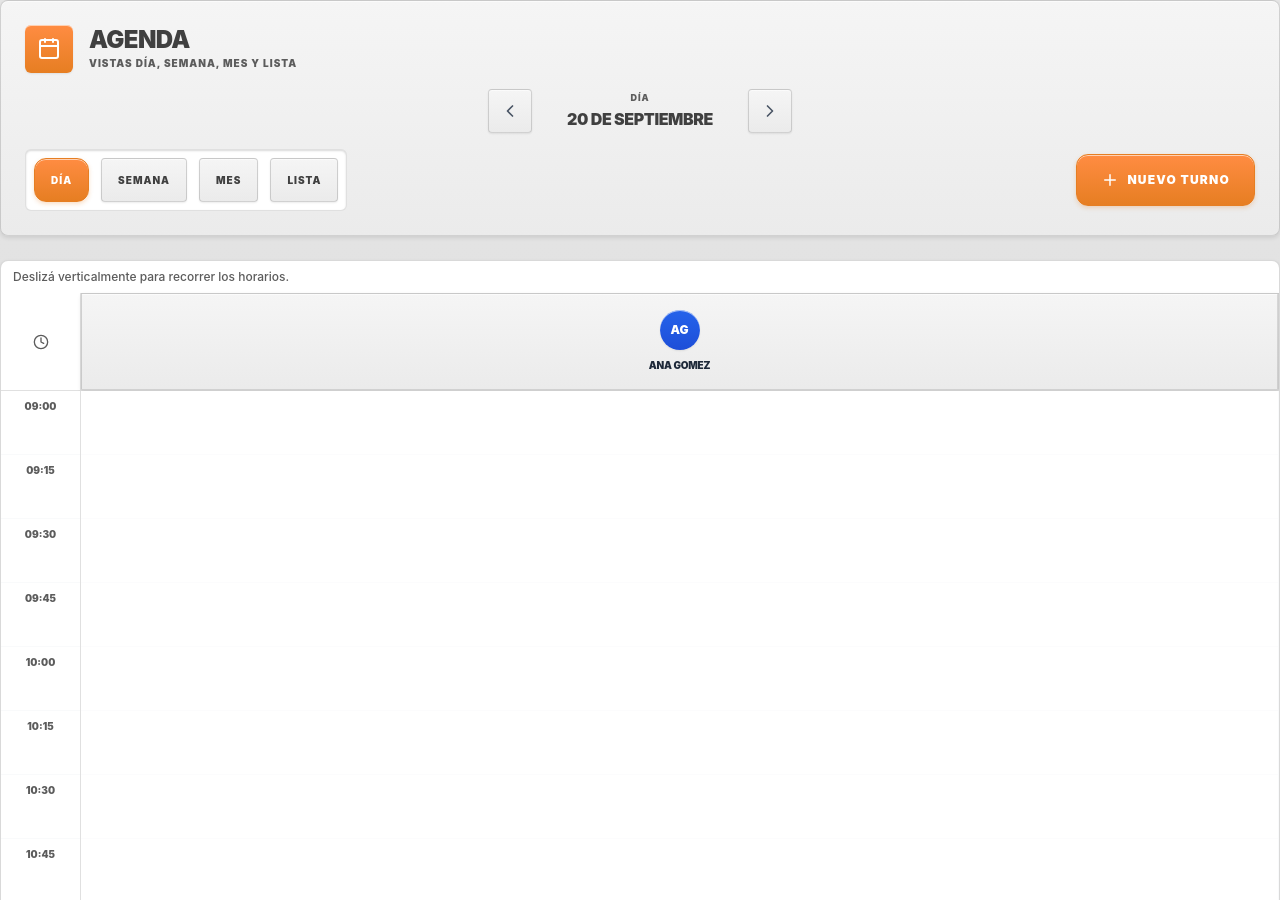
Test case: CalendarContainer - vistas, orden y navegacion (F11c-08) › la vista Semana salta hacia atras a 13 de septiembre y hacia adelante a 27 de septiembre
The width and height of the screenshot is (1280, 900).
Click the button "Semana": [144, 180] box 101,158 -> 187,202
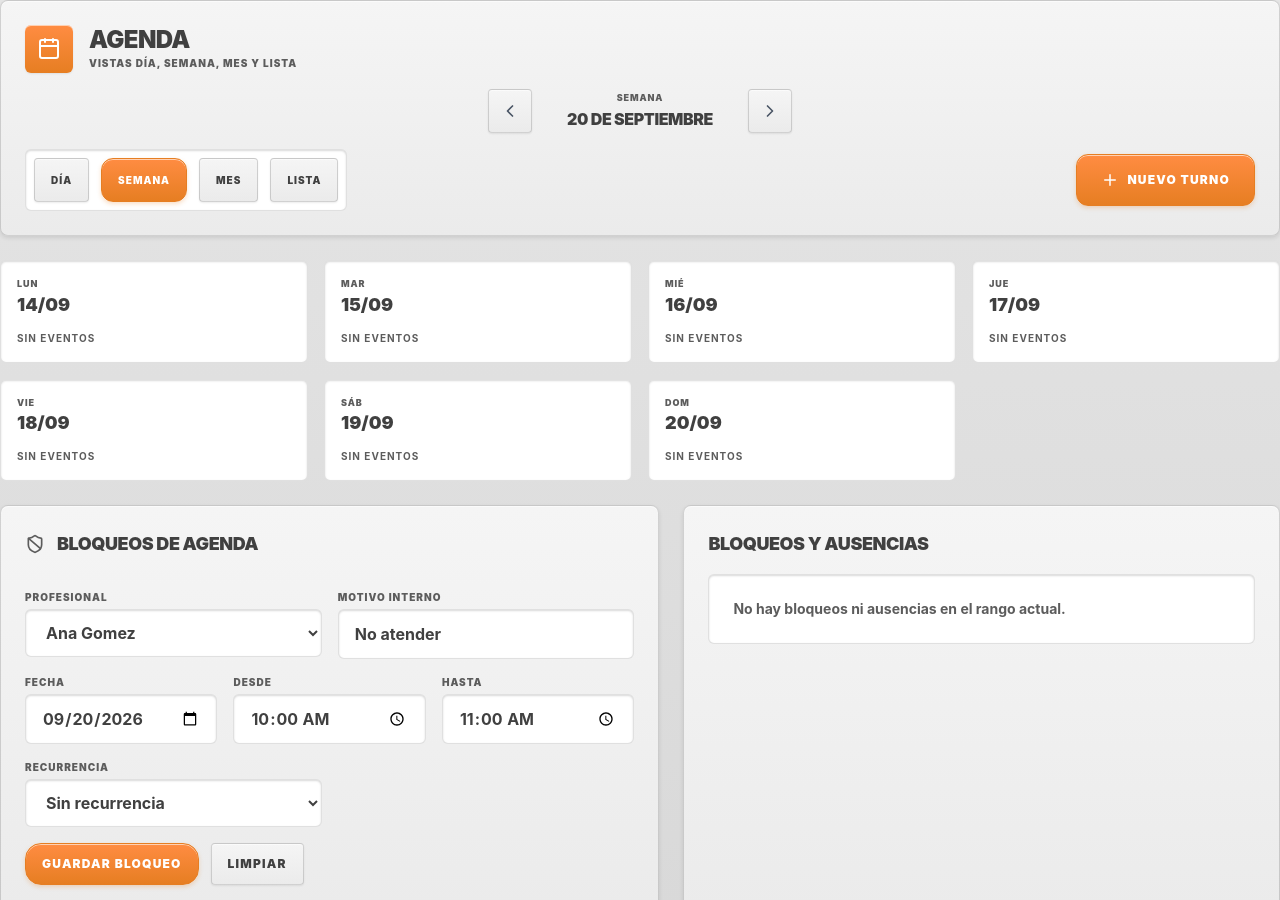
Check: the text "20 de septiembre" is shown, box 564,107 -> 716,131
Click the button named "Anterior": [510, 111] box 488,89 -> 532,133
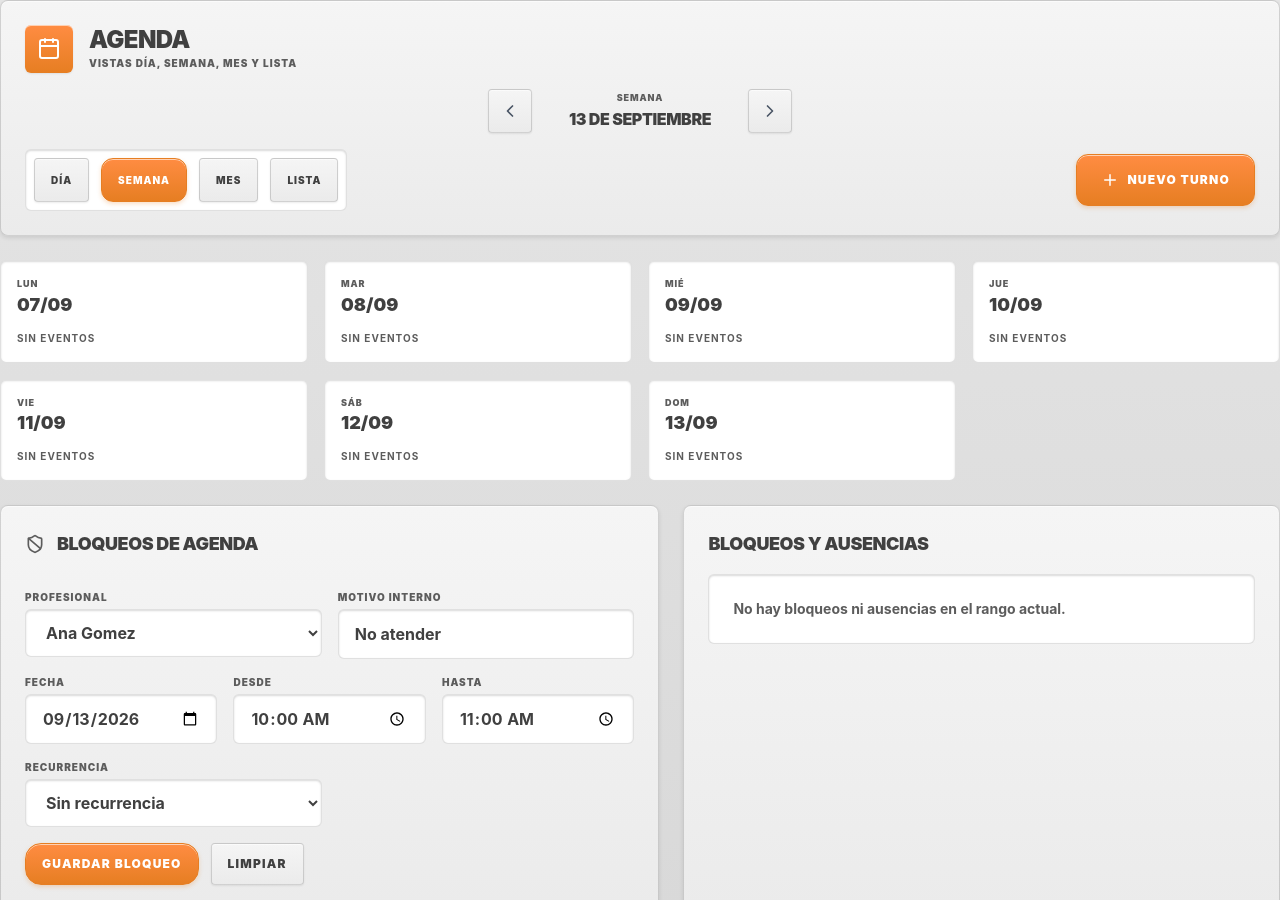
Check: the text "13 de septiembre" is shown, box 564,107 -> 716,131
Click the button named "Siguiente": [770, 111] box 748,89 -> 792,133
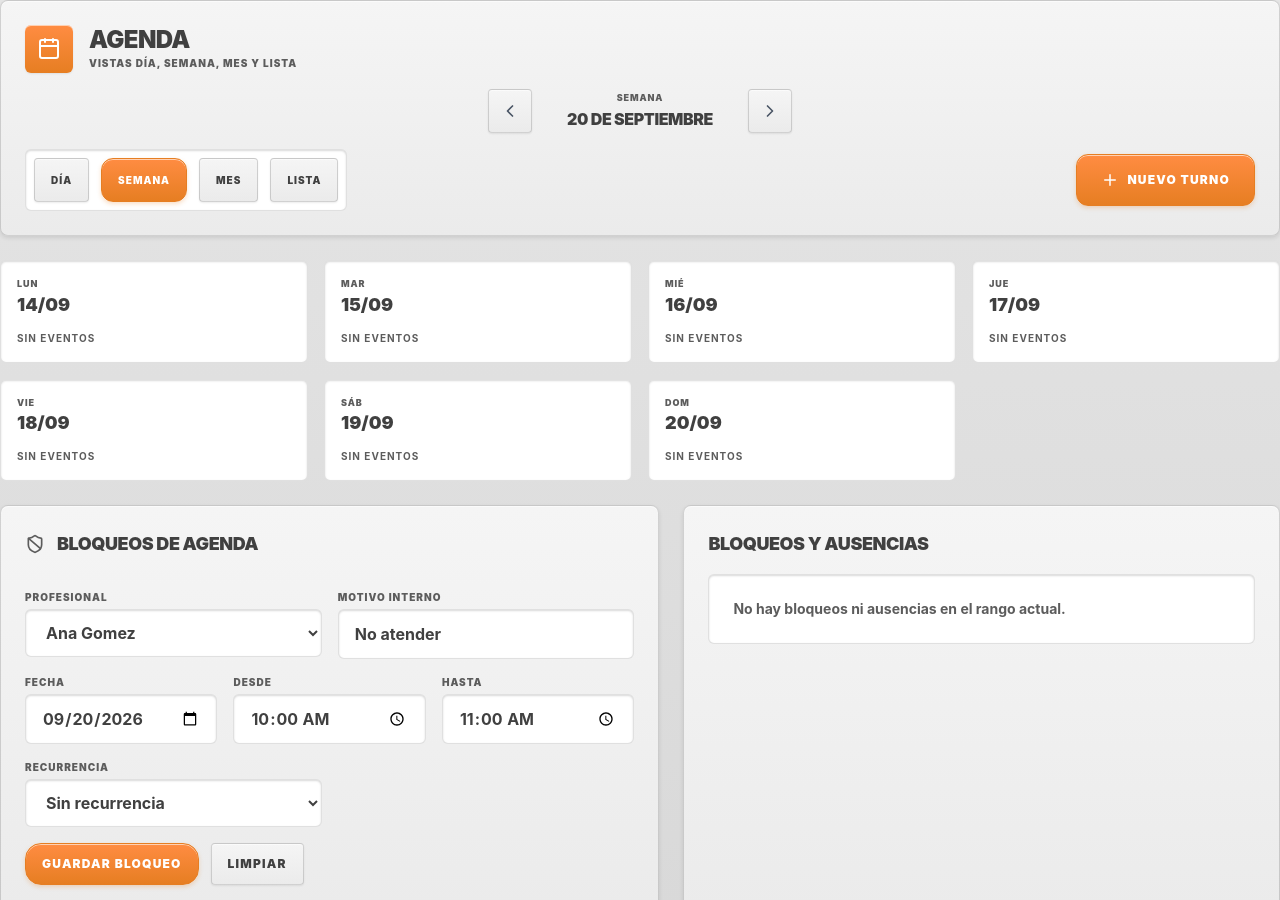
Click the button named "Siguiente": [770, 111] box 748,89 -> 792,133
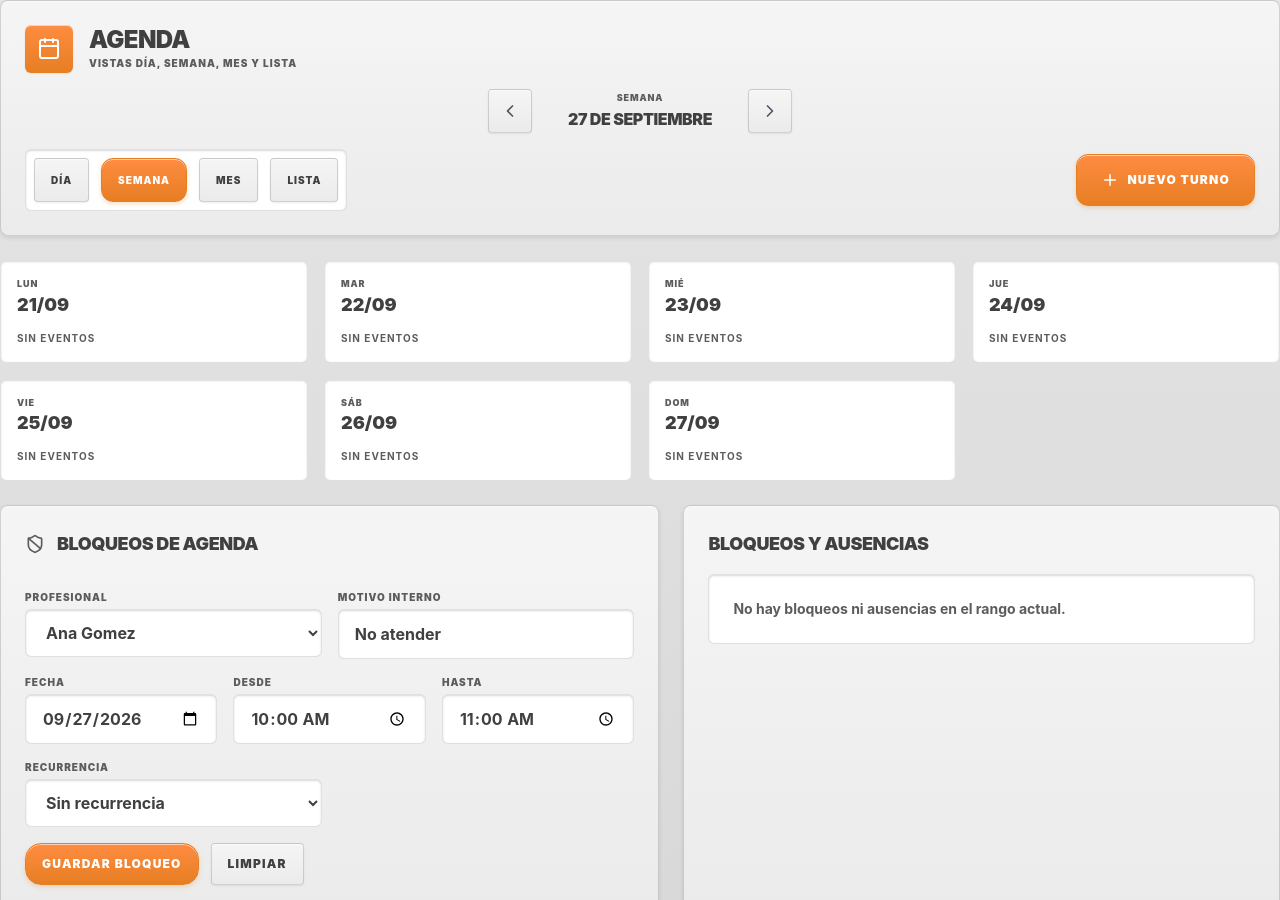
Check: the text "27 de septiembre" is shown, box 564,107 -> 716,131
